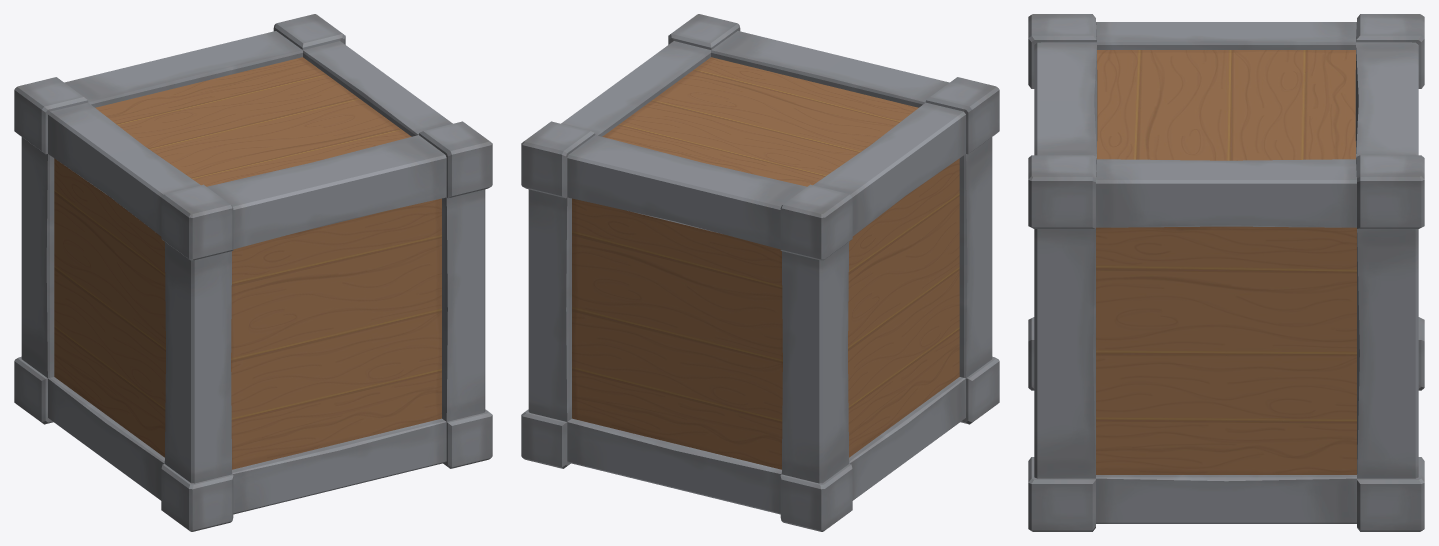
Rendered from CarriableObject.fbx.
The picture shows the model from 3 angles, left to right: view 1: azimuth 30°, elevation 25°; view 2: azimuth 150°, elevation 25°; view 3: azimuth 270°, elevation 25°; orthographic projection. The views are drawn at different scales.
Parts seen in each view (by area): view 1: Cube; view 2: Cube; view 3: Cube.
Boxes of the visible parts, box(x1,y1,x2,y2) form: Cube: box(14, 14, 492, 531); Cube: box(521, 14, 999, 531); Cube: box(1028, 14, 1424, 531).
Bounding box in the file's own units: 2.16 × 2.16 × 2.18.
